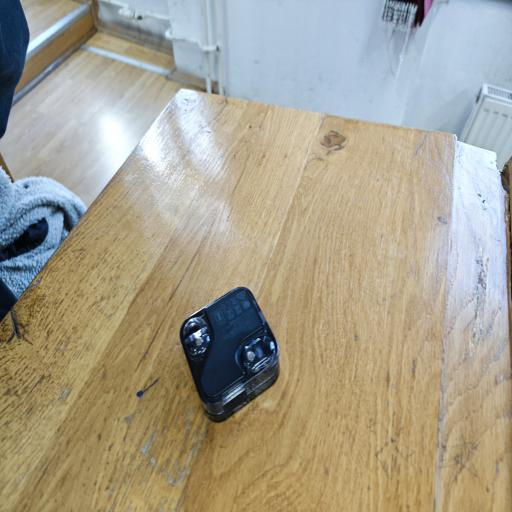Headphones: (176, 279, 284, 429)
